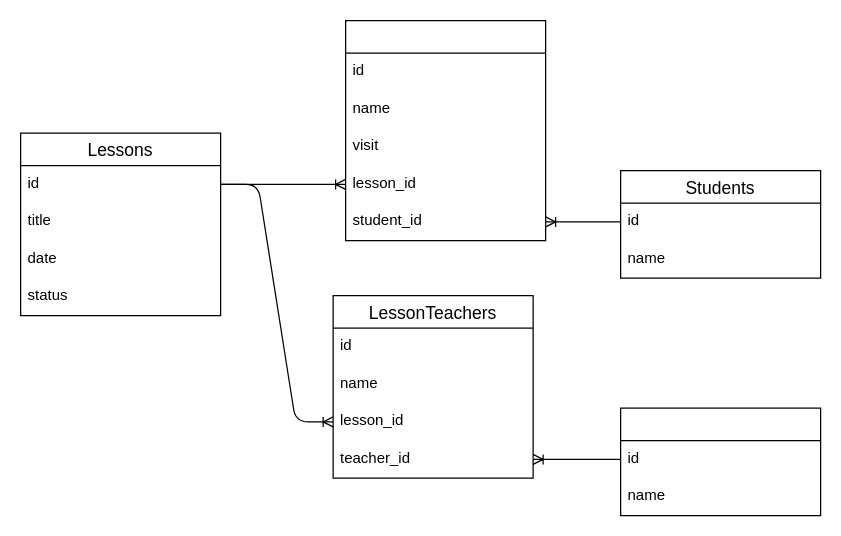
Image size: 841x536. Some labels were removed from this diagram. Each missing label, with the box of its shape:
LessonStudents: (344, 19, 546, 241)
Teachers: (619, 407, 821, 516)
